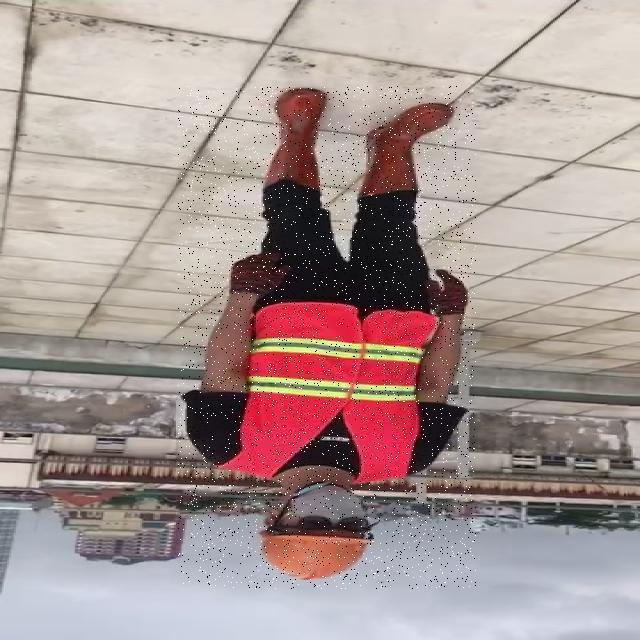gloves: (226, 250, 300, 295), (417, 265, 471, 318)
